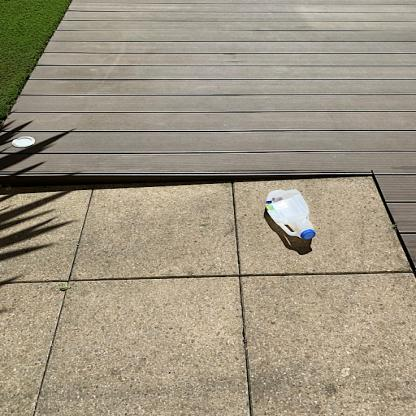trash: (263, 187, 317, 244)
